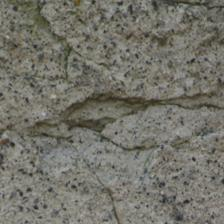Crack: (16, 45, 207, 99)
